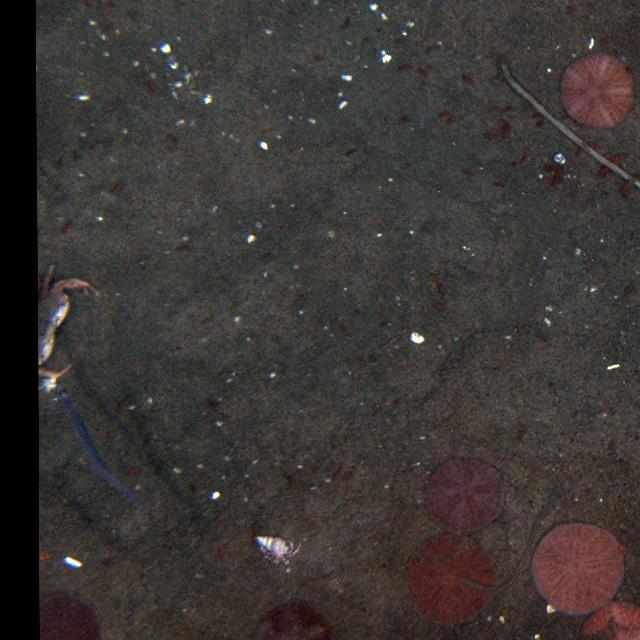crab: (37, 260, 100, 392)
